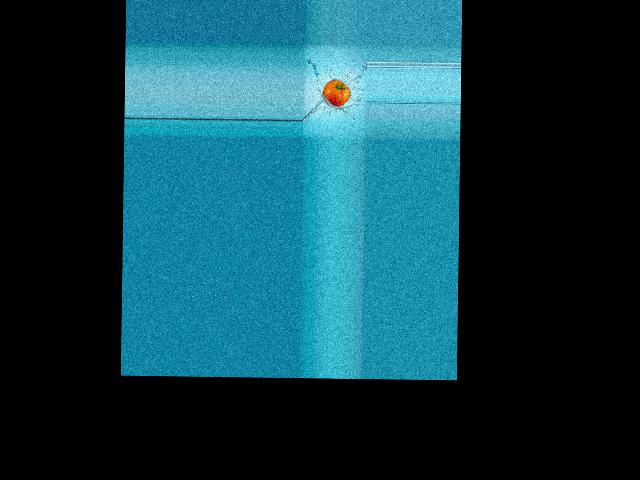tomato: (322, 79, 350, 107)
